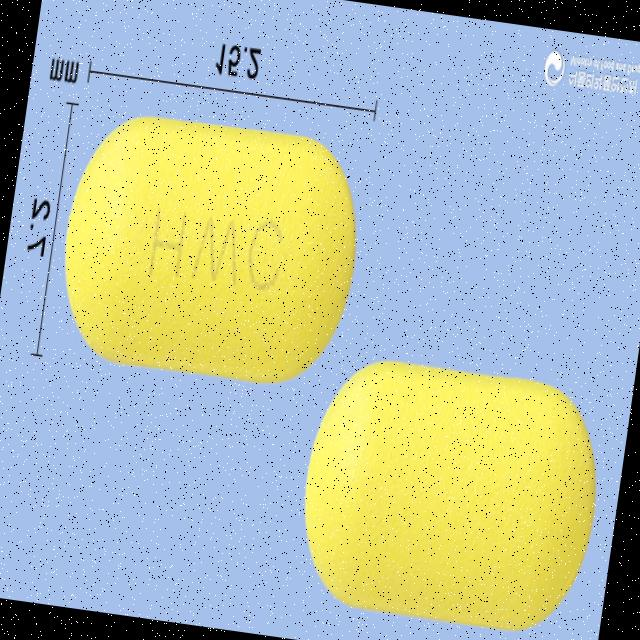Clacid - 250mg: (44, 94, 380, 406)
